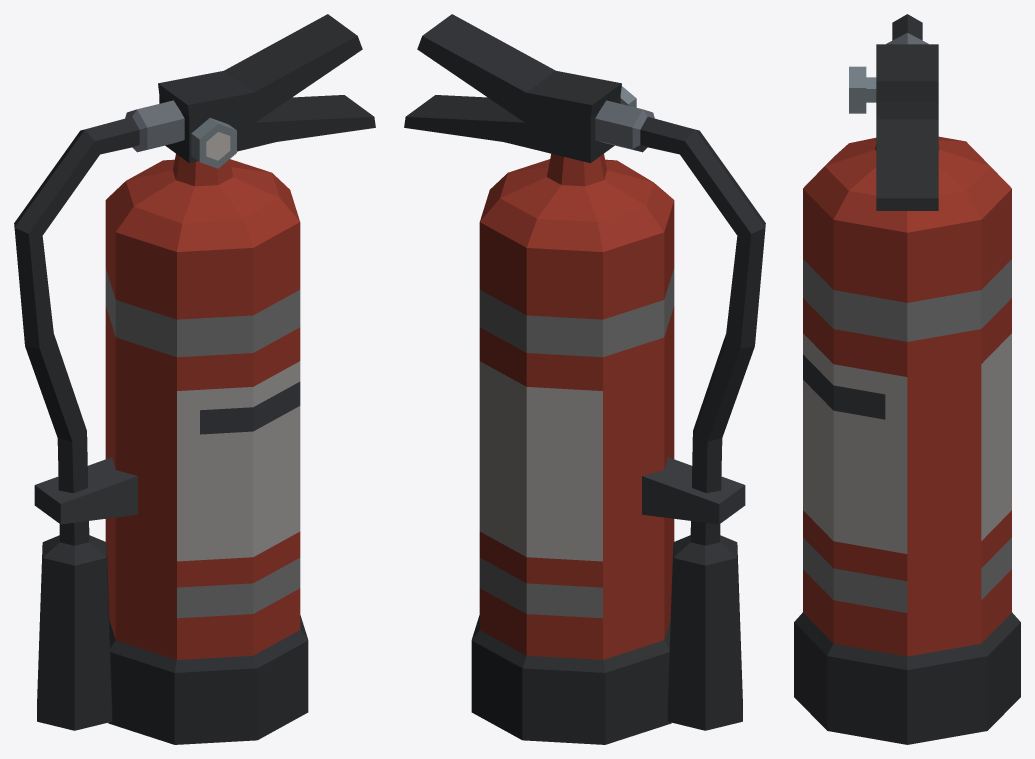
Rendered from Fire_Extinguisher.fbx.
The picture shows the model from 3 angles, left to right: view 1: azimuth 30°, elevation 25°; view 2: azimuth 150°, elevation 25°; view 3: azimuth 270°, elevation 25°; orthographic projection. The views are drawn at different scales.
Visible parts, largest first — view 1: Fire_Extinguisher; view 2: Fire_Extinguisher; view 3: Fire_Extinguisher.
Boxes of the visible parts, x1,y1,x2,y2 form: Fire_Extinguisher: [14, 14, 375, 744]; Fire_Extinguisher: [404, 14, 765, 744]; Fire_Extinguisher: [794, 14, 1020, 744].
Size of the model in its own units: 30.14 by 53.31 by 16.45.
1 material, 1 textured.
